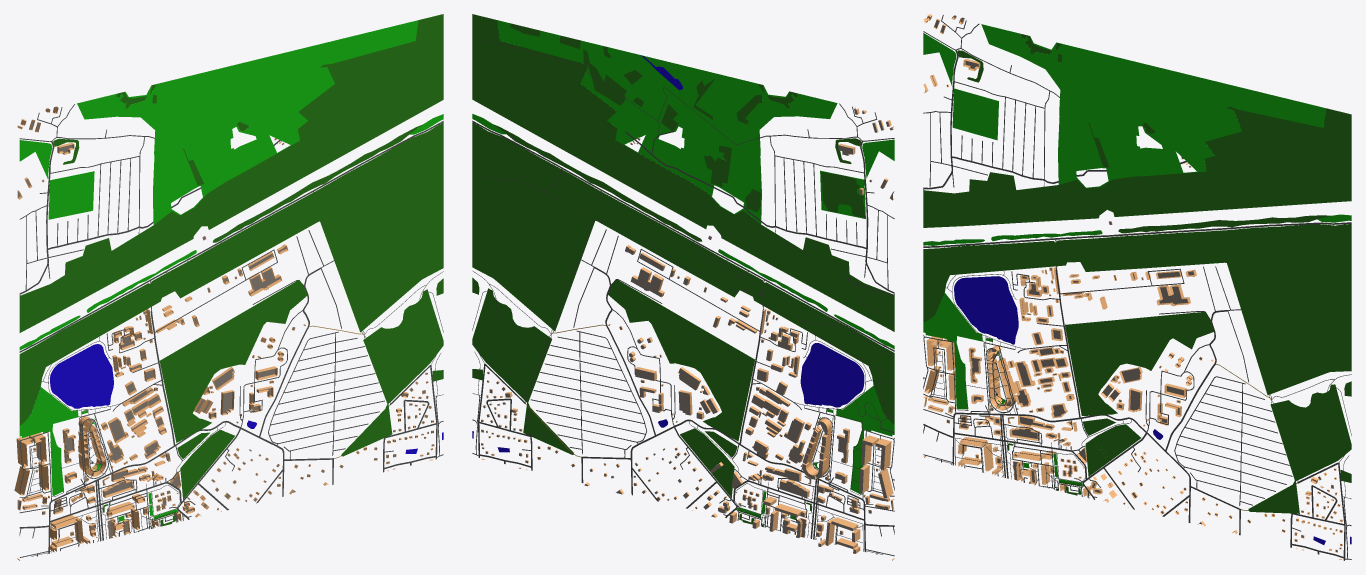
File: tile.001.fbx
3 renders of one model, left to right at view 1: azimuth 30°, elevation 25°; view 2: azimuth 150°, elevation 25°; view 3: azimuth 330°, elevation 25°, orthographic.
Visible parts, largest first — view 1: tile.001; view 2: tile.001; view 3: tile.001.
Part boxes in pixels (x1=…): tile.001: x1=14, y1=14, x2=443, y2=560; tile.001: x1=472, y1=14, x2=894, y2=560; tile.001: x1=923, y1=14, x2=1351, y2=560.
Bounding box in the file's own units: 400 × 400 × 10.83.
